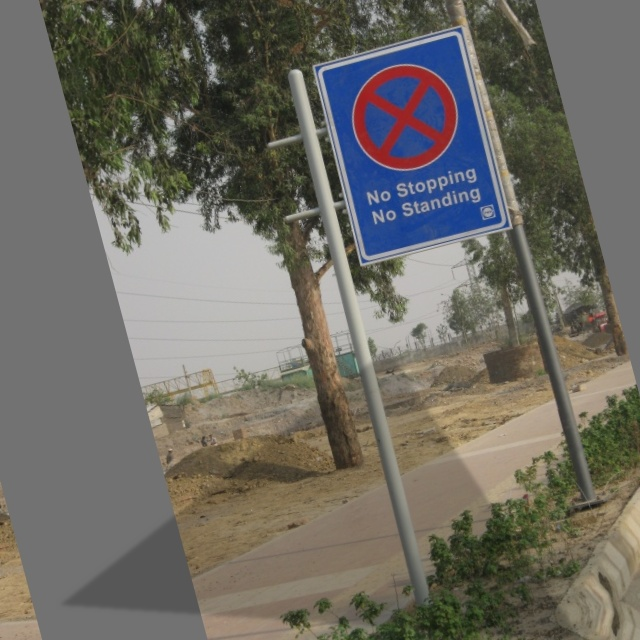No_Stopping_or_Standing: (329, 37, 476, 189)
